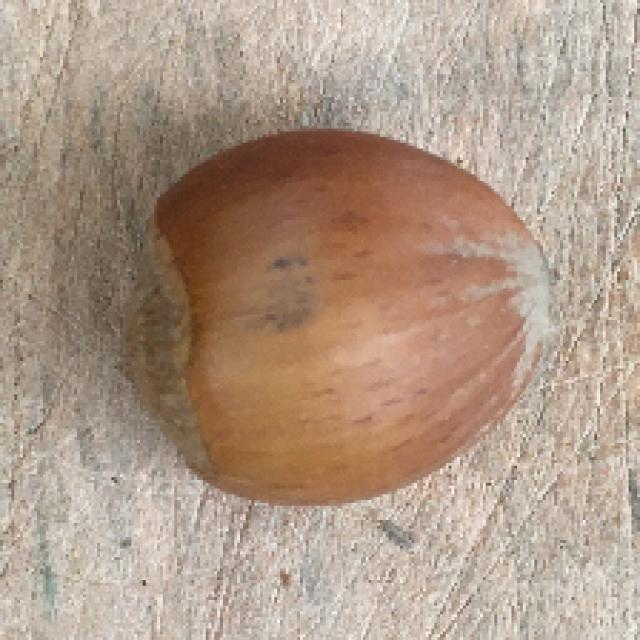damagedHazelnut: (116, 122, 568, 513)
